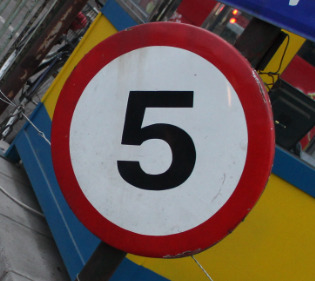speed_limit_5: (50, 21, 275, 259)
